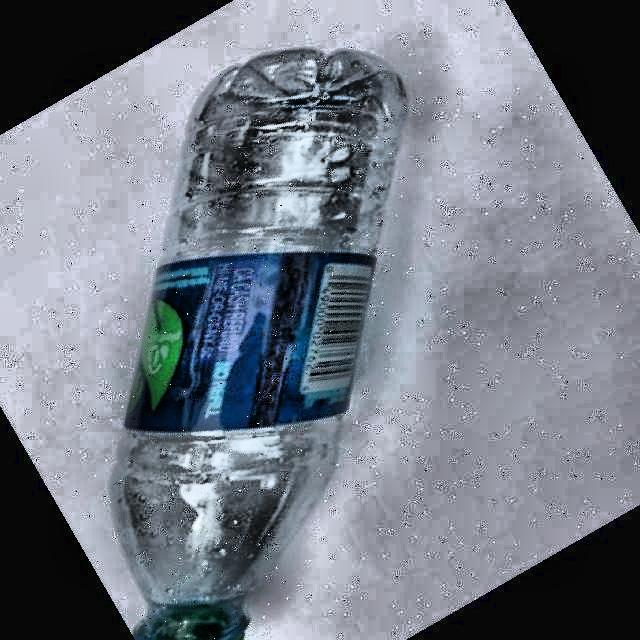plastic: (112, 49, 406, 639)
